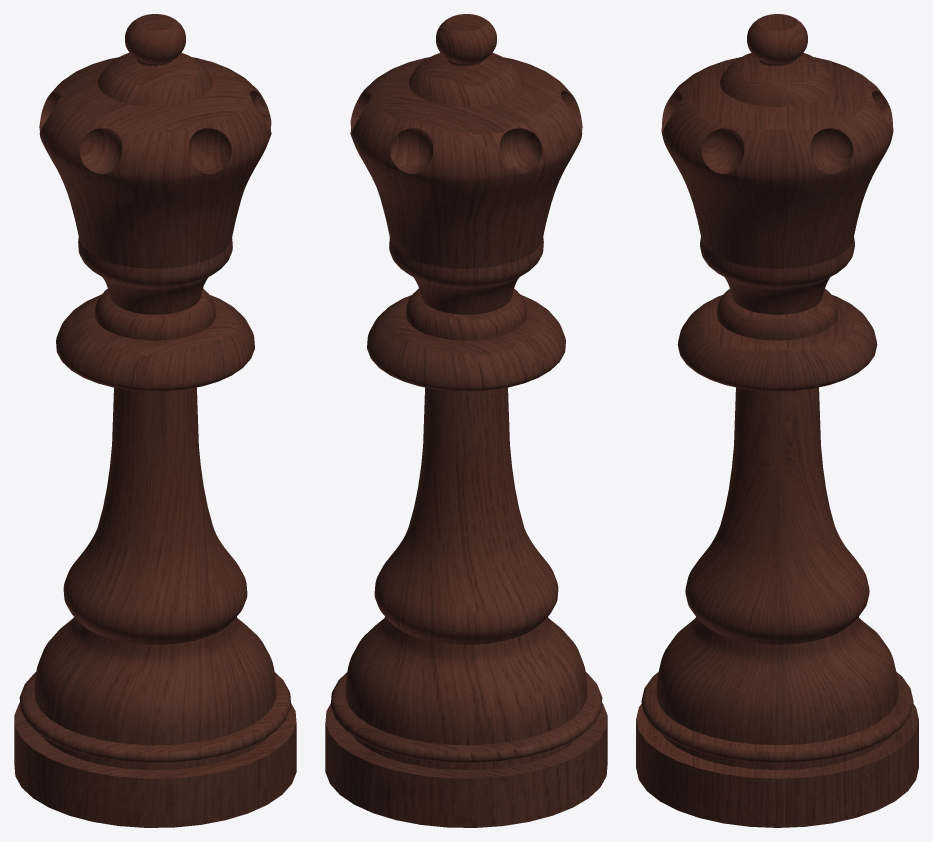
File: black-queen.glb
3 views of the same model, side by side, from view 1: azimuth 30°, elevation 25°; view 2: azimuth 150°, elevation 25°; view 3: azimuth 270°, elevation 25° (orthographic).
Parts seen in each view (by area): view 1: ScacchiBianchi_Donna.002_Material #50_0; view 2: ScacchiBianchi_Donna.002_Material #50_0; view 3: ScacchiBianchi_Donna.002_Material #50_0.
Boxes of the visible parts, x1,y1,x2,y2 form: ScacchiBianchi_Donna.002_Material #50_0: (14, 14, 296, 827); ScacchiBianchi_Donna.002_Material #50_0: (325, 14, 607, 827); ScacchiBianchi_Donna.002_Material #50_0: (636, 14, 918, 827).
Bounding box in the file's own units: 3.25 × 9.46 × 3.25.
Materials: 1 (1 with a texture image).
